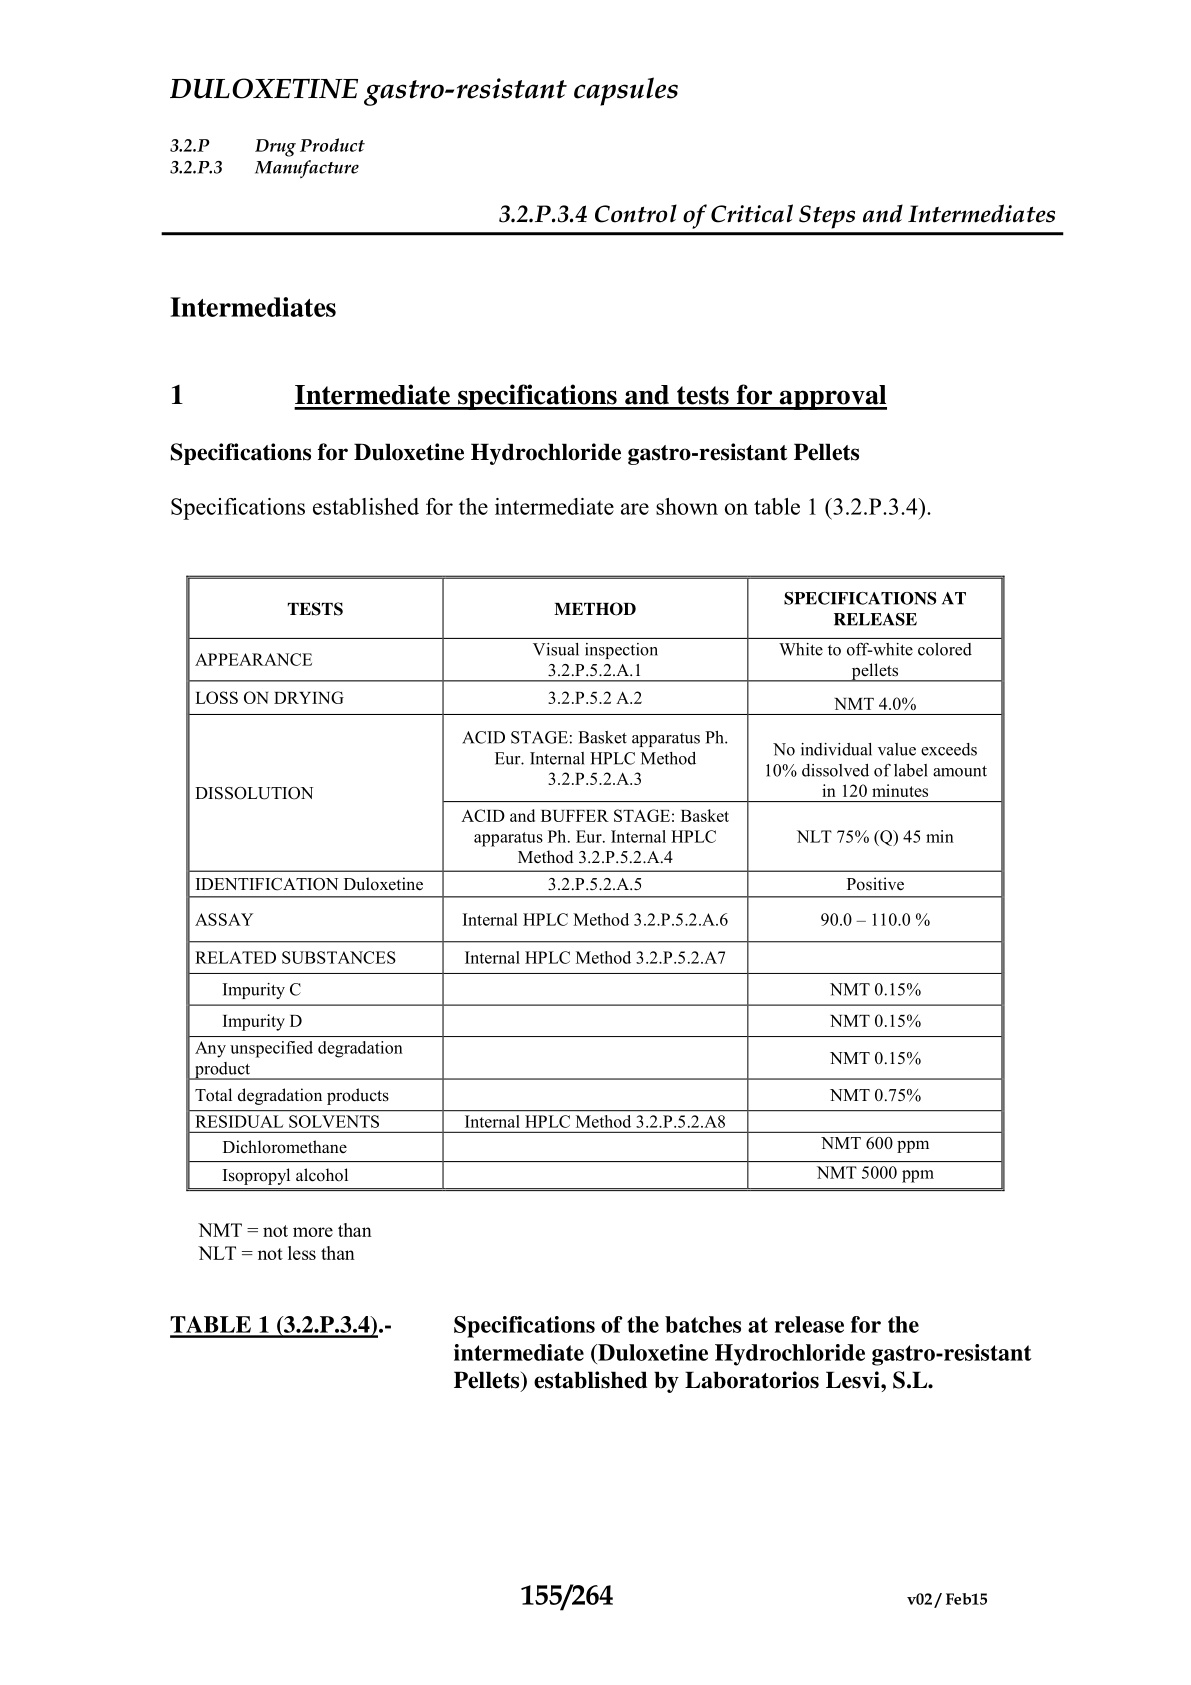merged_cells: (186, 575, 1005, 1193)
